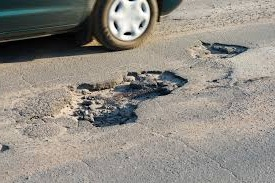pothole: (62, 65, 191, 128), (191, 36, 252, 64), (0, 139, 9, 150)
